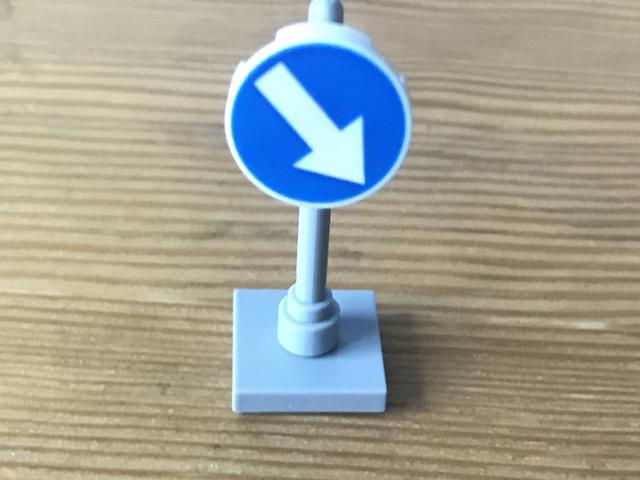rechts halten: (219, 21, 413, 212)
